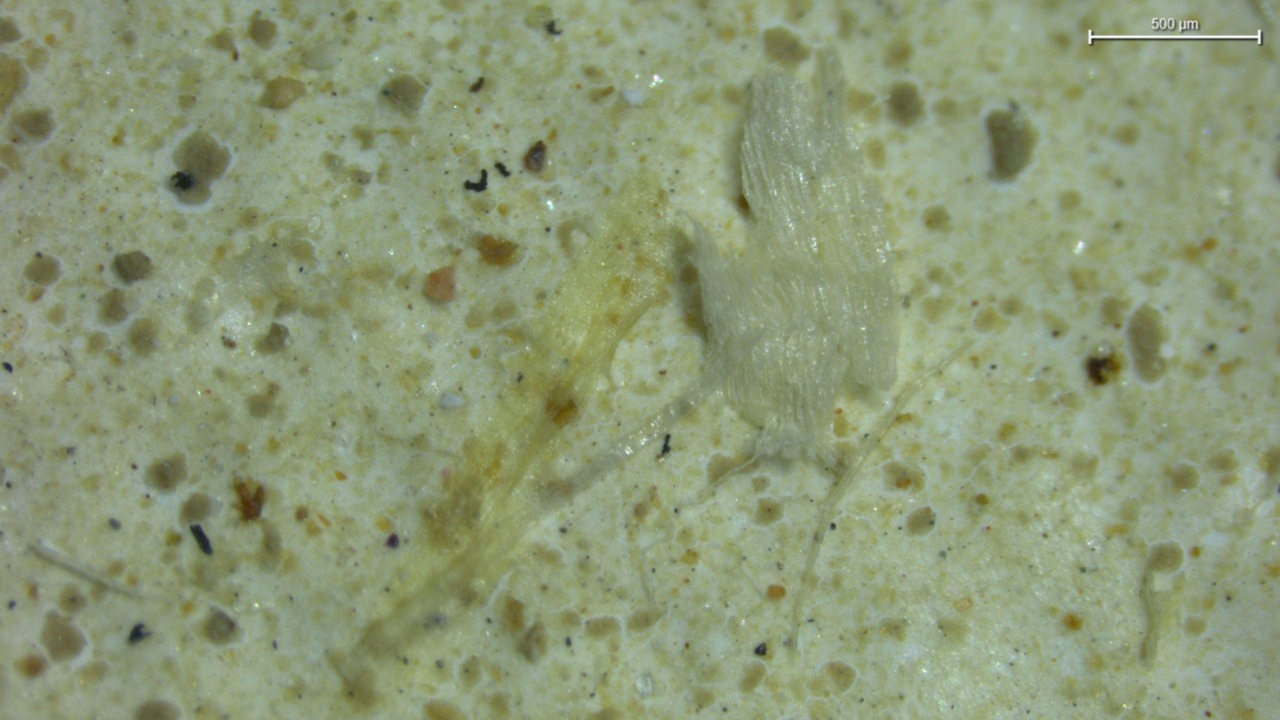microplastic_fragment: (690, 53, 898, 458)
